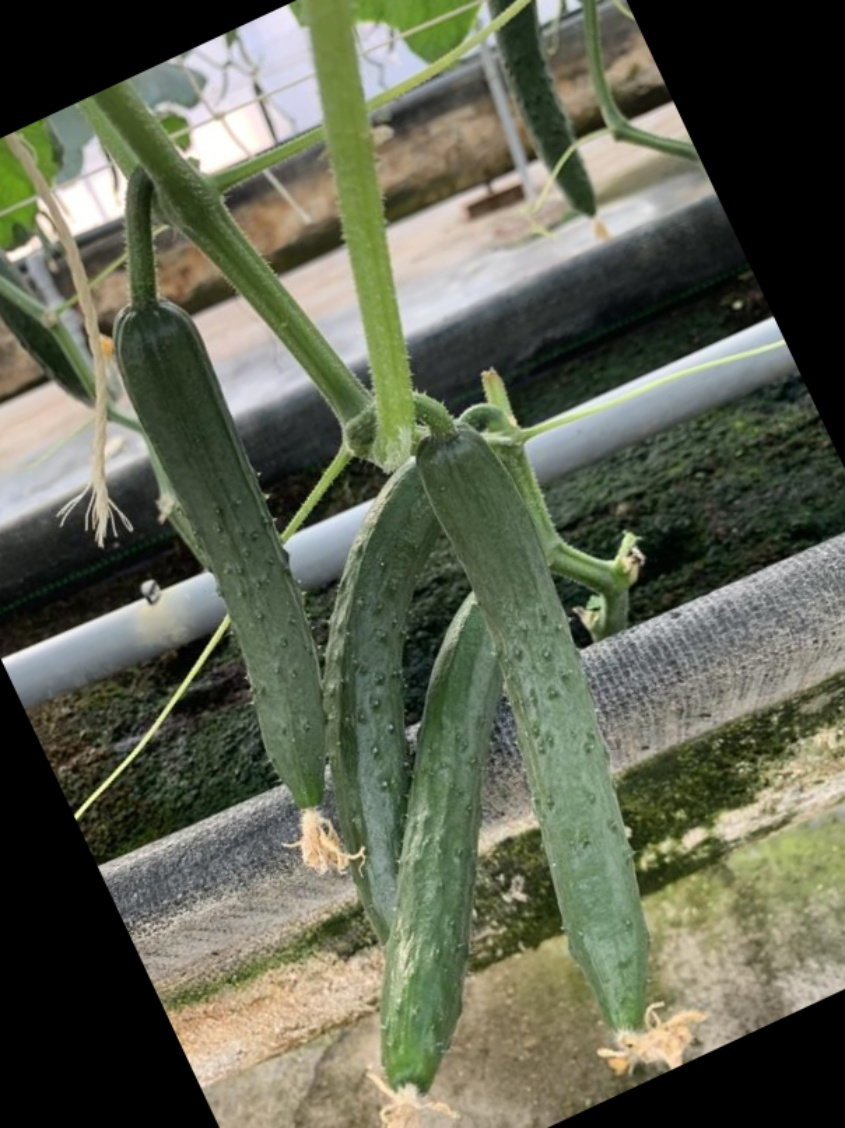mature: (314, 445, 459, 954), (370, 577, 498, 1105)
